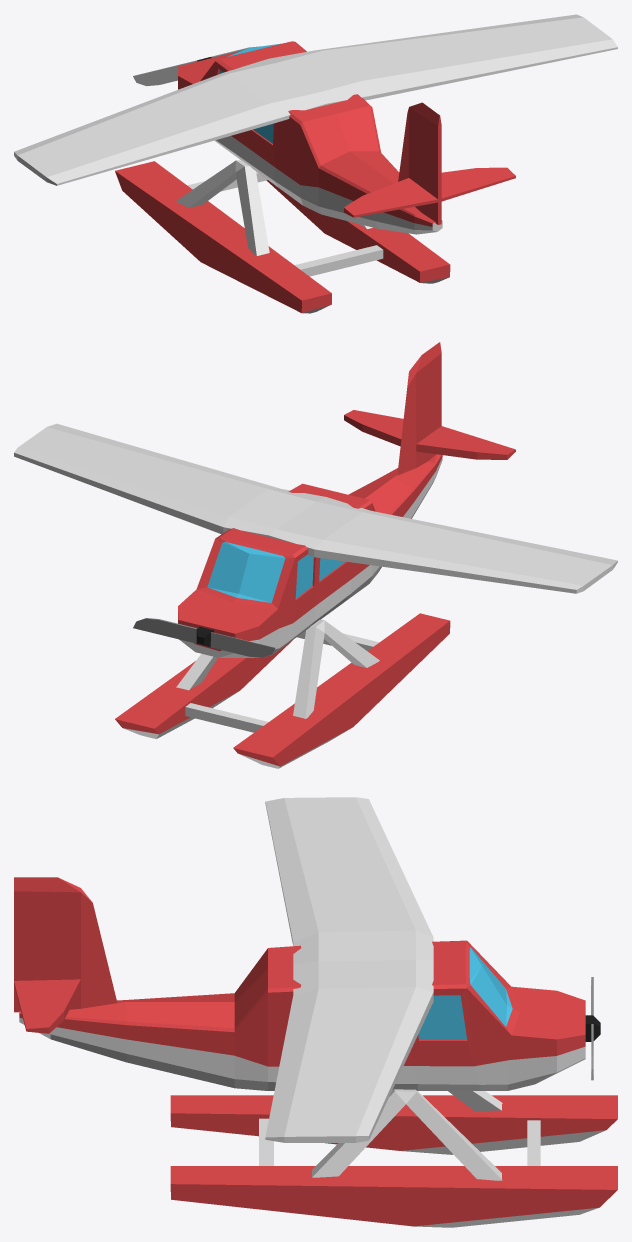
Rendered from hydravion.gltf.
3 renders of one model, top to bottom at view 1: azimuth 30°, elevation 25°; view 2: azimuth 150°, elevation 25°; view 3: azimuth 270°, elevation 25°, orthographic. The views are drawn at different scales.
Parts seen in each view (by area): view 1: Body, Landing, TailWings, Rotor; view 2: Body, Landing, TailWings, Rotor; view 3: Body, Landing, TailWings, Rotor.
Part boxes in pixels (x1=…): Body: x1=14, y1=14, x2=617, y2=234; Landing: x1=115, y1=160, x2=450, y2=313; TailWings: x1=344, y1=102, x2=515, y2=224; Rotor: x1=133, y1=46, x2=257, y2=86; Body: x1=14, y1=423, x2=617, y2=657; Landing: x1=115, y1=613, x2=450, y2=768; TailWings: x1=344, y1=342, x2=515, y2=475; Rotor: x1=133, y1=618, x2=274, y2=657; Body: x1=19, y1=797, x2=585, y2=1142; Landing: x1=170, y1=1089, x2=617, y2=1227; TailWings: x1=14, y1=877, x2=117, y2=1033; Rotor: x1=585, y1=977, x2=600, y2=1080.
Size of the model in its own units: 4.6 by 1.96 by 3.46.
